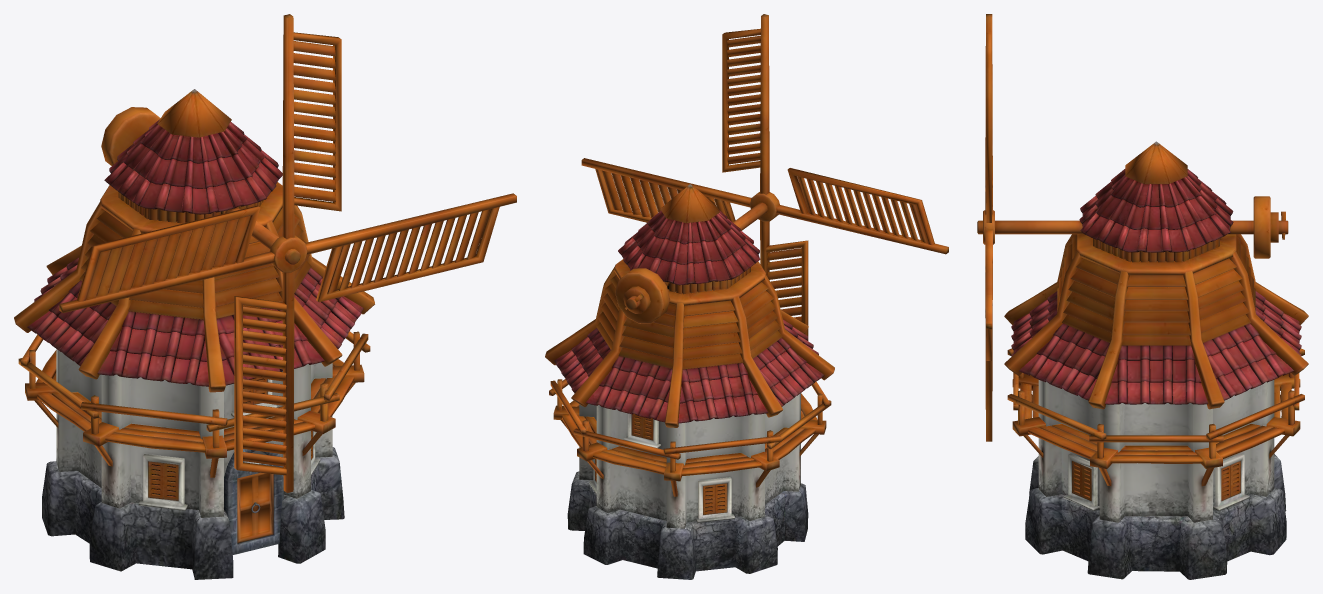
Rendered from PRP_Windmill.glb.
3 renders of one model, left to right at view 1: azimuth 30°, elevation 25°; view 2: azimuth 150°, elevation 25°; view 3: azimuth 270°, elevation 25°, orthographic. The views are drawn at different scales.
Visible parts, largest first — view 1: Fan_002_low_WindmillMat1_0; view 2: Fan_002_low_WindmillMat1_0; view 3: Fan_002_low_WindmillMat1_0.
Part boxes in pixels (x1,y1,x2,y2): Fan_002_low_WindmillMat1_0: (14,14,516,579); Fan_002_low_WindmillMat1_0: (545,14,948,579); Fan_002_low_WindmillMat1_0: (977,14,1308,579).
Bounding box in the file's own units: 1267 × 1521 × 895.
Materials: 1 (1 with a texture image).
